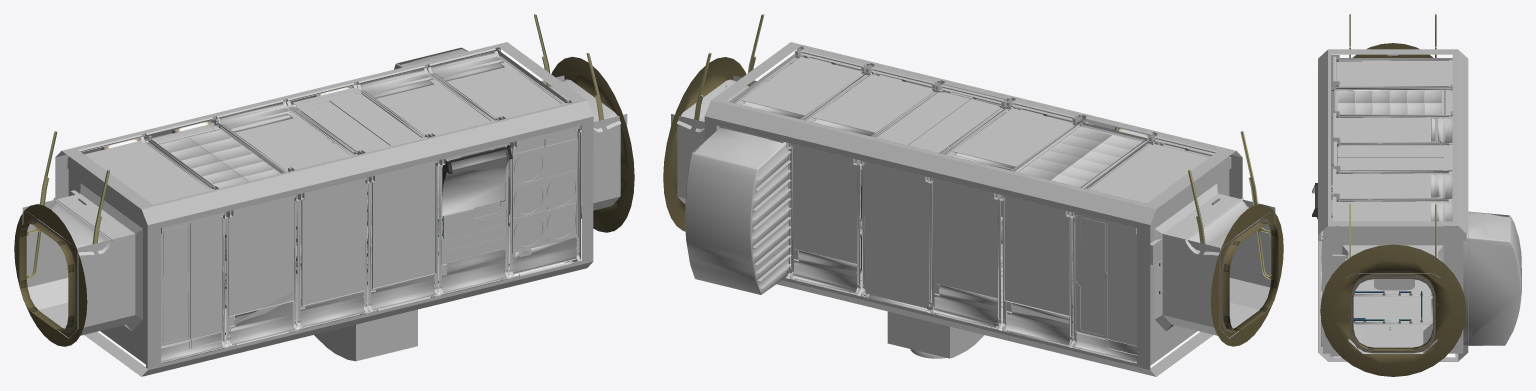
The model's file is us_lab.obj.
3 views of the same model, side by side, from view 1: azimuth 30°, elevation 25°; view 2: azimuth 150°, elevation 25°; view 3: azimuth 270°, elevation 25° (orthographic). The views are drawn at different scales.
Parts seen in each view (by area): view 1: US_Lab_Int_AFT_Bulkhead; view 2: US_Lab_Int_AFT_Bulkhead; view 3: US_Lab_Int_AFT_Bulkhead.
Part boxes in pixels (left/top/right/bottom): US_Lab_Int_AFT_Bulkhead: left=14, top=14, right=634, bottom=376; US_Lab_Int_AFT_Bulkhead: left=663, top=14, right=1283, bottom=376; US_Lab_Int_AFT_Bulkhead: left=1312, top=14, right=1521, bottom=376.
Size of the model in its own units: 7.73 by 3.51 by 3.11.
